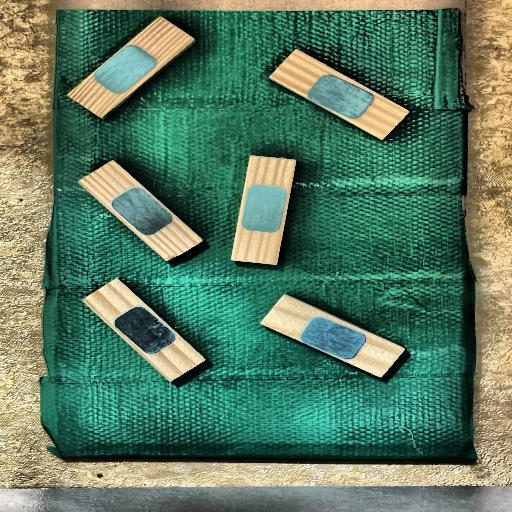objects: (66, 7, 195, 126), (82, 270, 207, 390), (78, 152, 204, 270), (268, 44, 410, 145), (260, 291, 405, 382), (230, 152, 296, 269)
